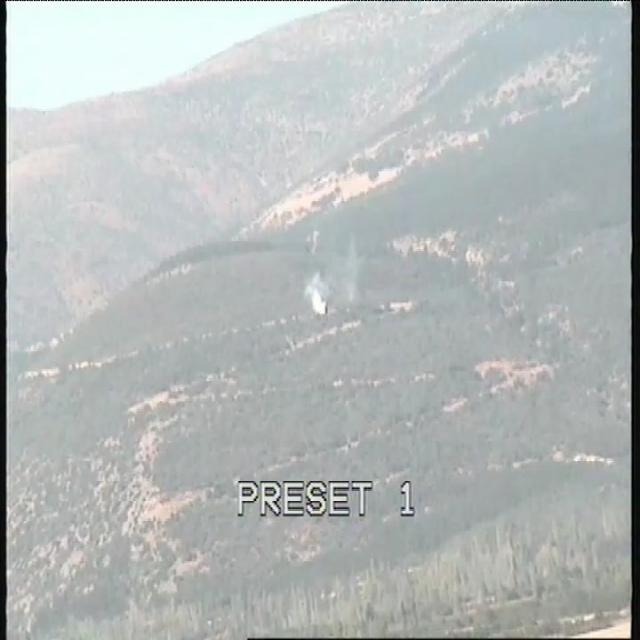smoke: (301, 237, 359, 322)
